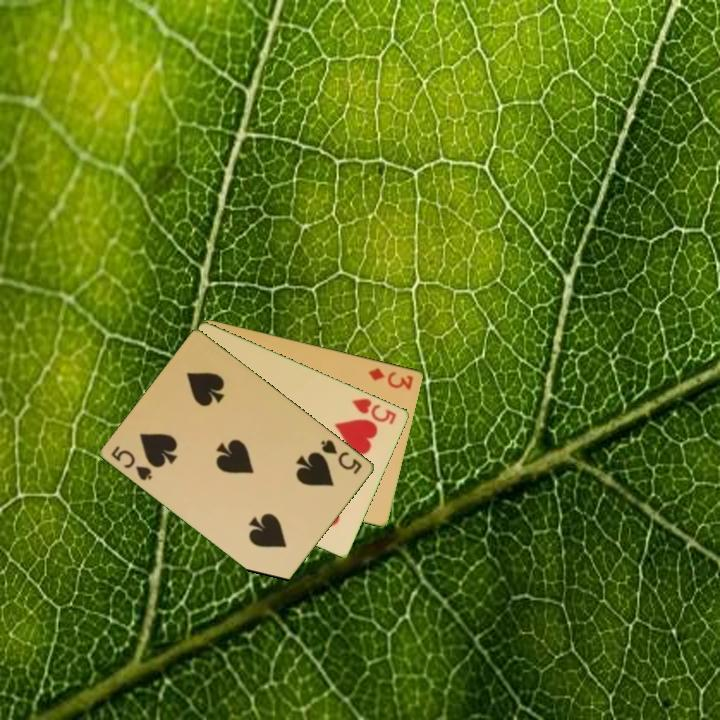3d: (365, 364, 416, 393)
5h: (349, 394, 400, 427)
5s: (108, 442, 156, 484), (317, 436, 365, 477)
